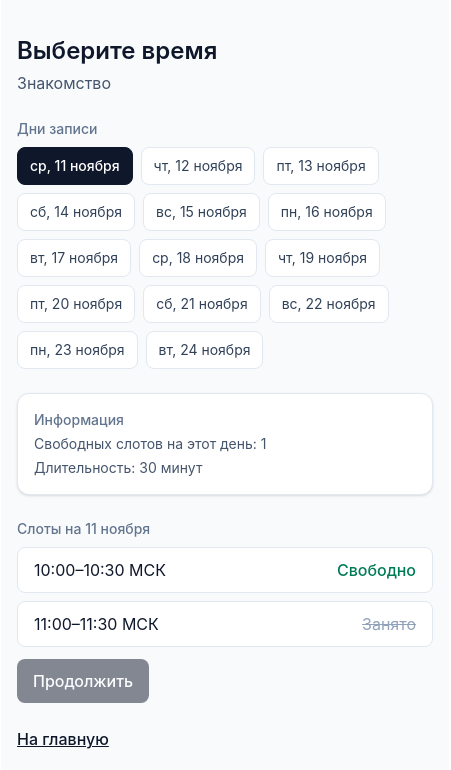
Test: Страница записи › после успеха показывает «Бронь подтверждена. До встречи!» и берёт занятость с сервера
This screenshot has width=451, height=770.
Click the button "10:00–10:30 МСК Свободно" at (100, 570), box [17,547,433,593]
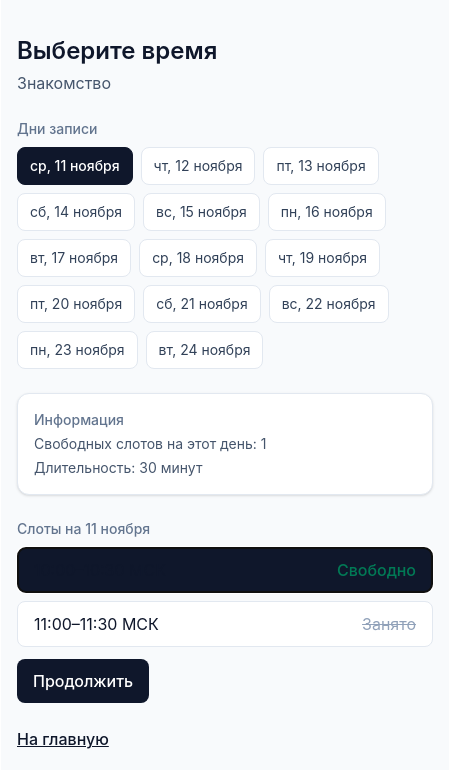
Click the button "Продолжить" at (83, 681), box [17,659,149,703]
(page scrolled)
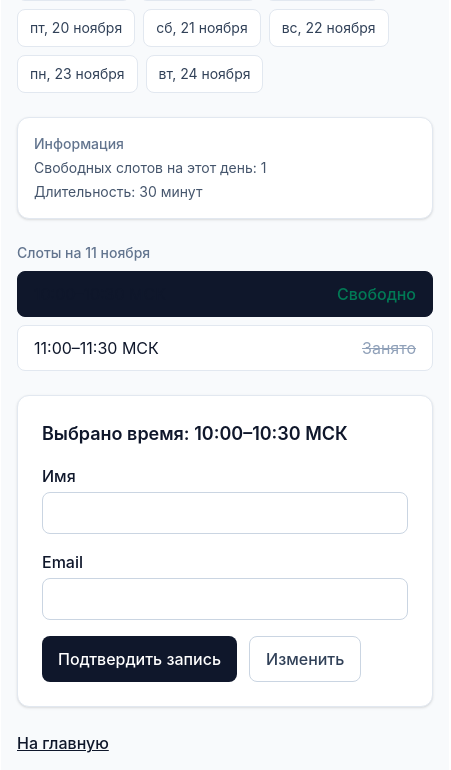
Type "Анна" into the field labelled "Имя" at (225, 513), box [42,492,408,534]
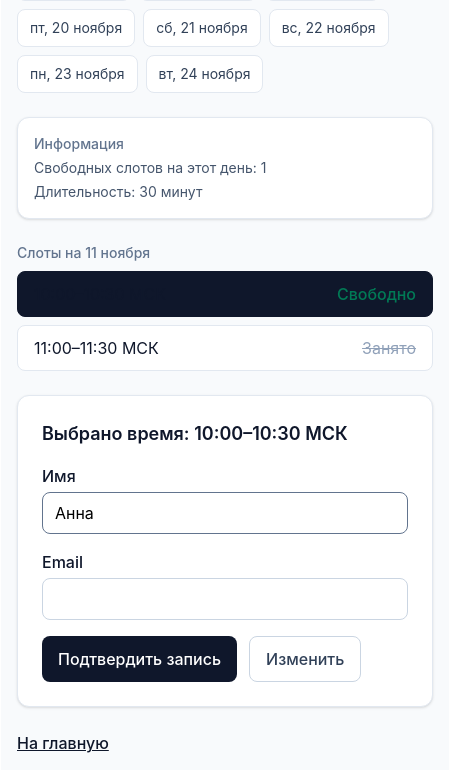
Type "anna@example.com" into the field labelled "Email" at (225, 599), box [42,578,408,620]
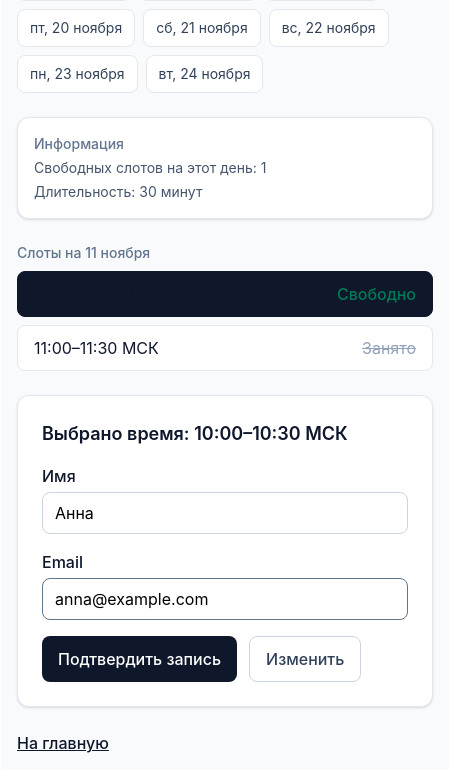
Click the button "Подтвердить запись" at (140, 659), box [42,636,237,682]
(page scrolled)
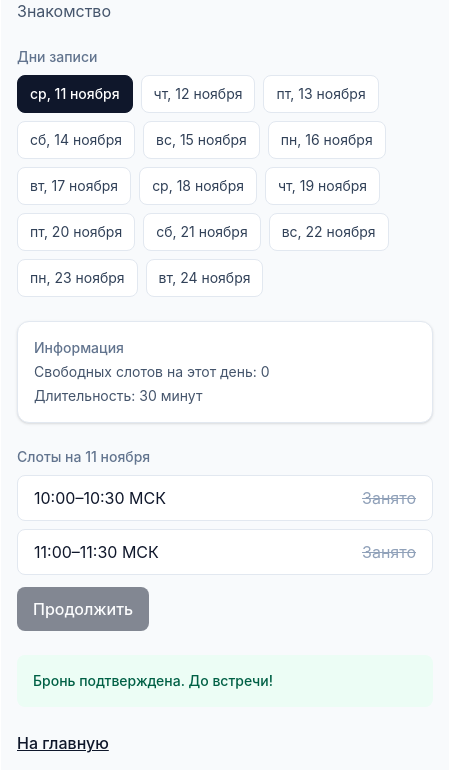
expect the text "Бронь подтверждена. До встречи!" is shown: met, box [17,655,433,707]
expect the text "Занято" in the row of "10:00–10:30 МСК" is shown: met, box [362,488,416,508]
expect the text "Свободных слотов на этот день: 0" is shown: met, box [34,363,270,380]
